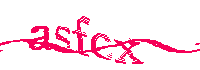a: (30, 24, 51, 53)
c: (90, 30, 113, 63)
f: (72, 16, 92, 60)
s: (54, 22, 73, 54)
x: (114, 37, 144, 67)
